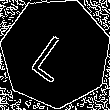L_NE: (28, 23, 83, 82)
